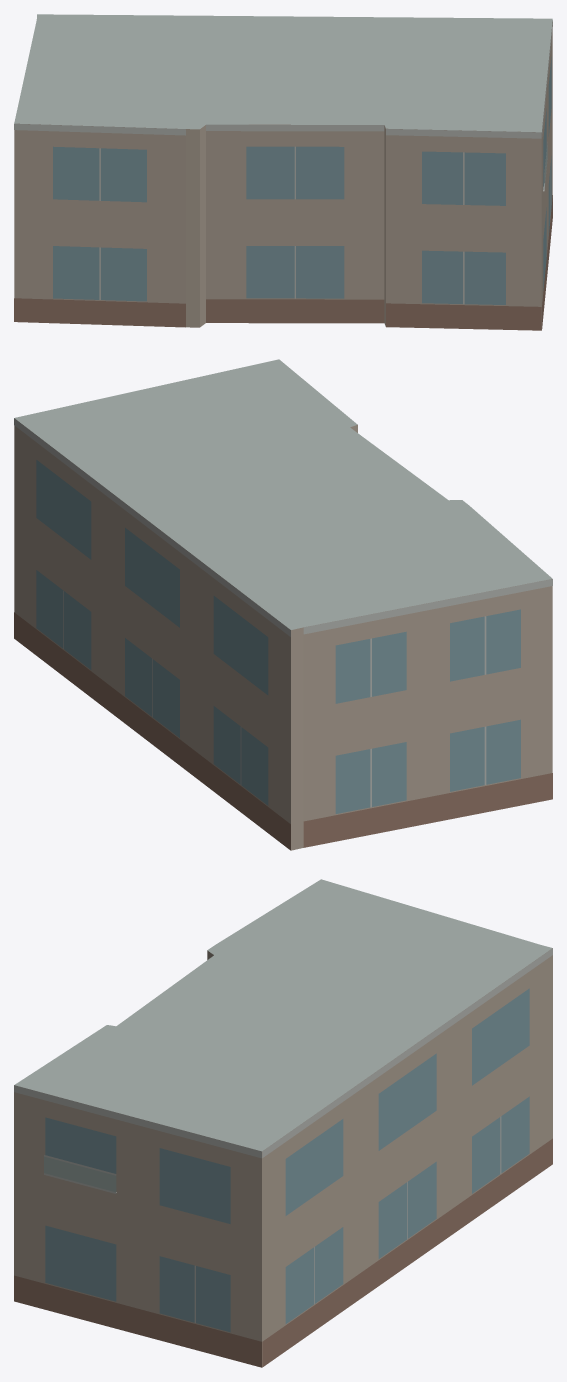
The model's file is survey-upis-32486705.glb.
3 renders of one model, top to bottom at view 1: azimuth 30°, elevation 25°; view 2: azimuth 150°, elevation 25°; view 3: azimuth 270°, elevation 25°, orthographic. The views are drawn at different scales.
Visible parts, largest first — view 1: survey-upis-32486705.tmp; view 2: survey-upis-32486705.tmp; view 3: survey-upis-32486705.tmp.
Boxes of the visible parts, x1,y1,x2,y2 form: survey-upis-32486705.tmp: (14,14,552,330); survey-upis-32486705.tmp: (14,359,552,850); survey-upis-32486705.tmp: (14,879,552,1367).
Size of the model in its own units: 20.25 by 7.5 by 16.94.
